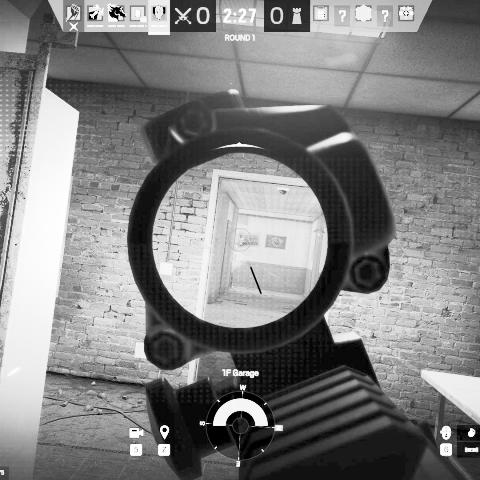Character: (229, 246, 238, 290)
Friend_label: (198, 242, 216, 257)
Head: (234, 247, 237, 252)
